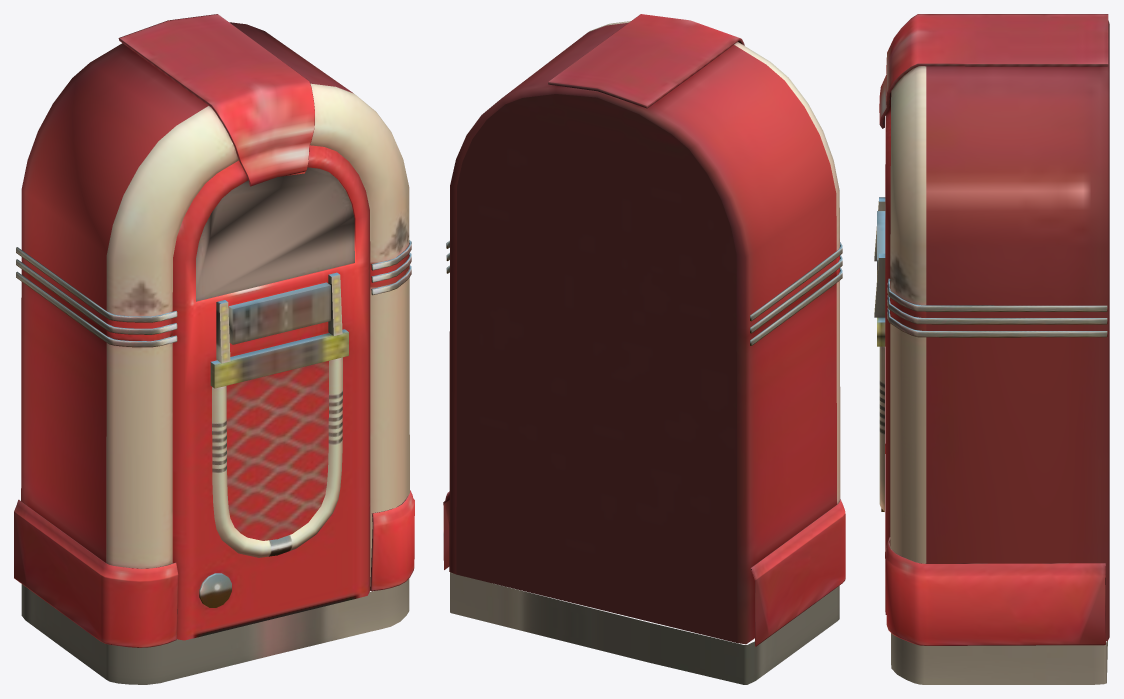
Rendered from juxebox.glb.
The picture shows the model from 3 angles, left to right: view 1: azimuth 30°, elevation 25°; view 2: azimuth 150°, elevation 25°; view 3: azimuth 270°, elevation 25°; orthographic projection. The views are drawn at different scales.
Parts seen in each view (by area): view 1: juxebox; view 2: juxebox; view 3: juxebox.
Part boxes in pixels (left/top/right/bottom): juxebox: left=14, top=14, right=414, bottom=684; juxebox: left=443, top=14, right=845, bottom=684; juxebox: left=874, top=14, right=1109, bottom=684.
Size of what is drawn, in the model's own units: 0.9244 by 1.58 by 0.584.
Materials: 1 (1 with a texture image).
